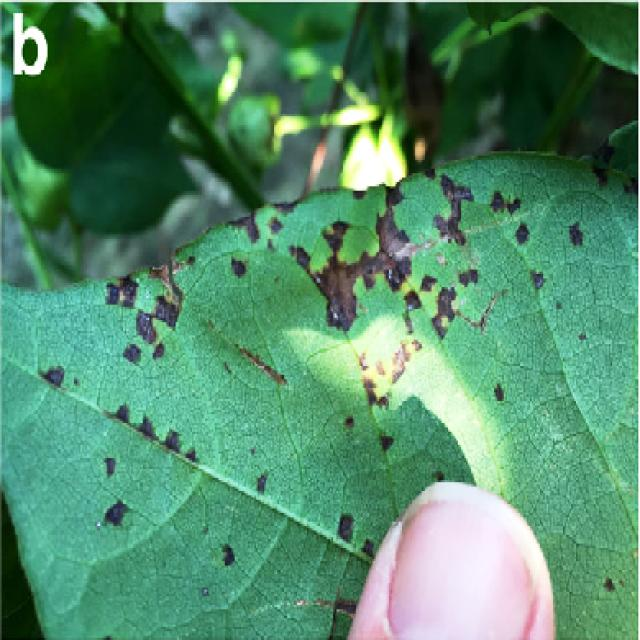Bacterial Blight: (241, 217, 483, 378)
